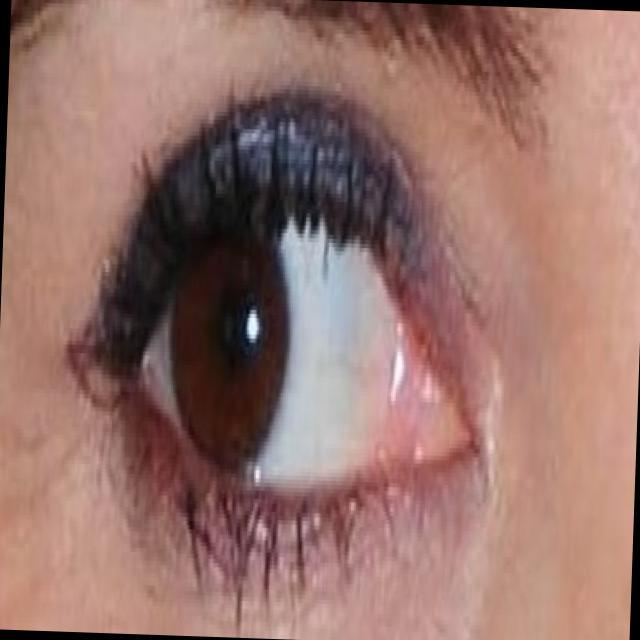Normal: (70, 70, 520, 606)
